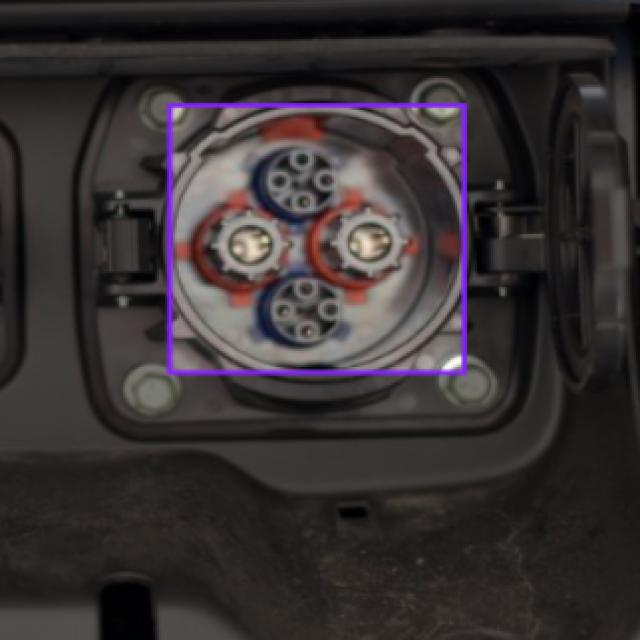CHAdeMO: (170, 105, 463, 371)
